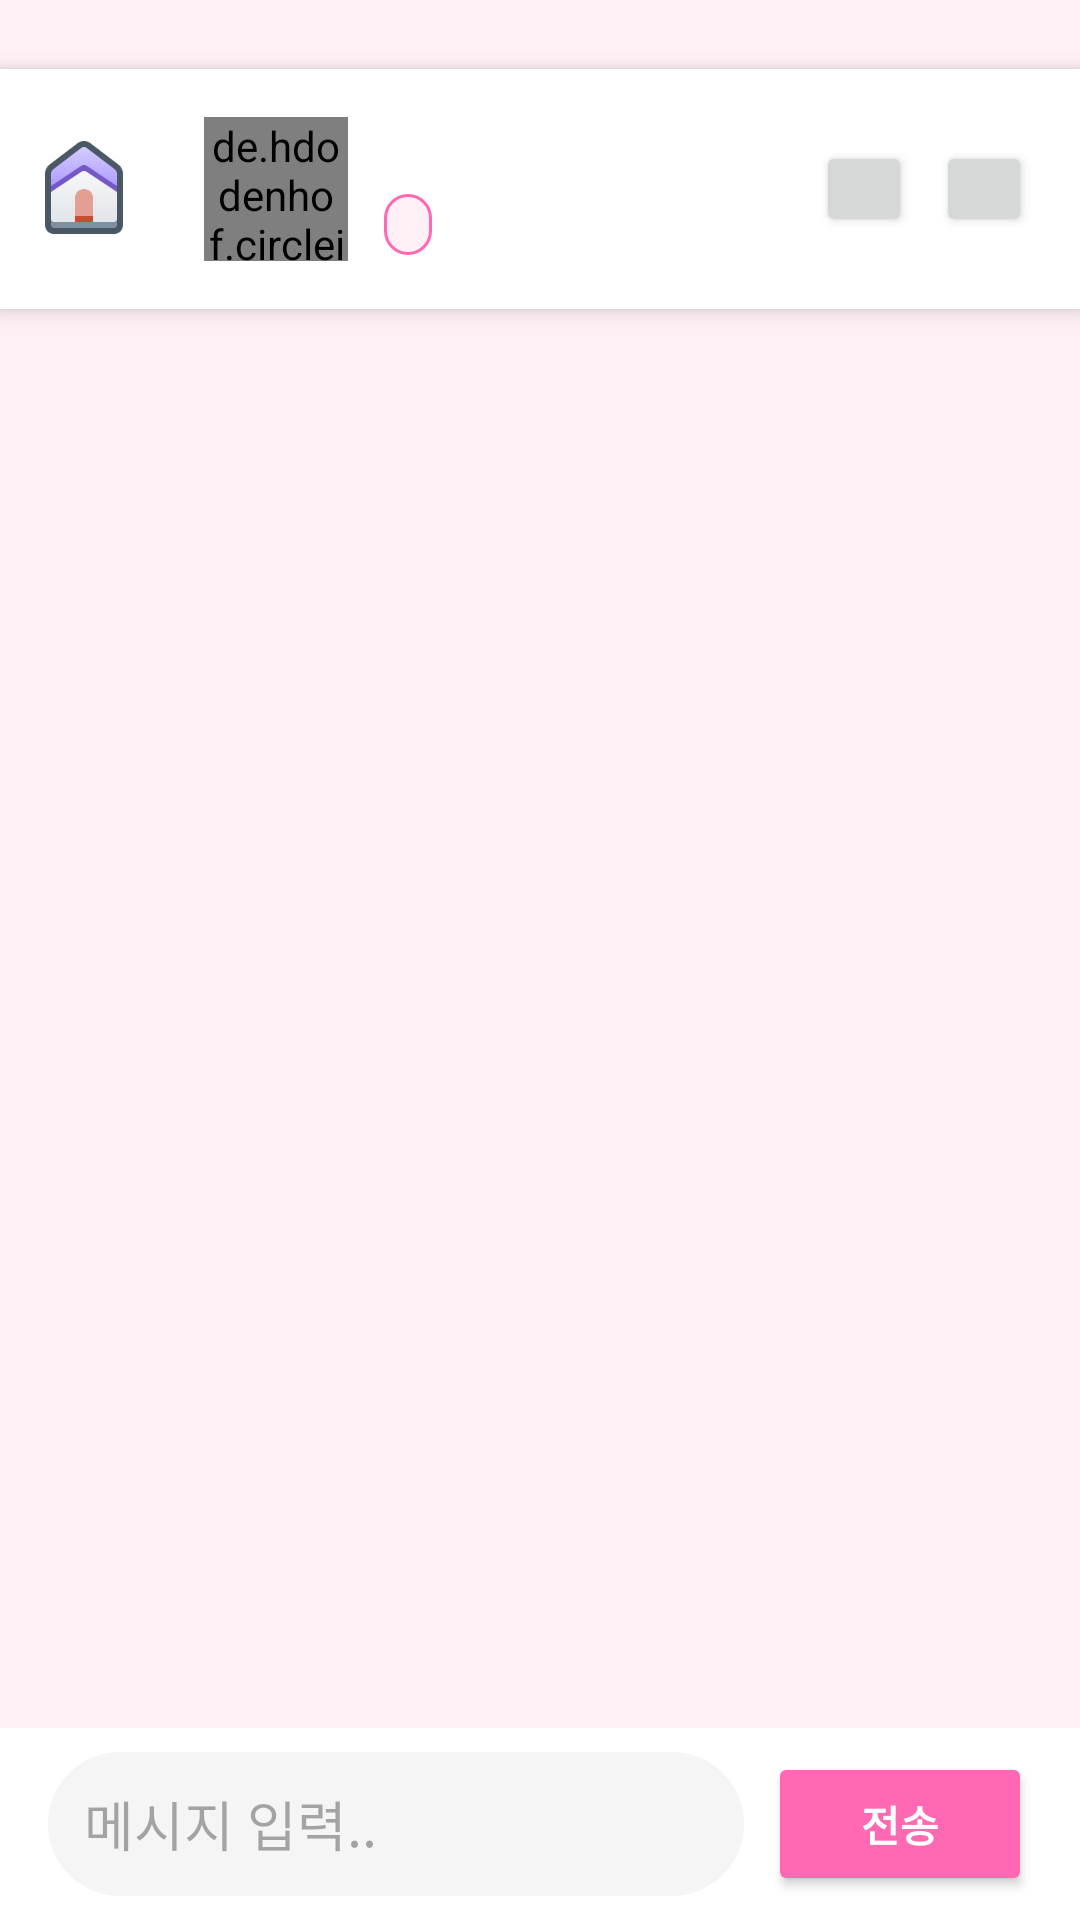

Icon click points for this 1080px x 1920px phone screenshot, format [x,y]:
홈으로가기: [84,187]
